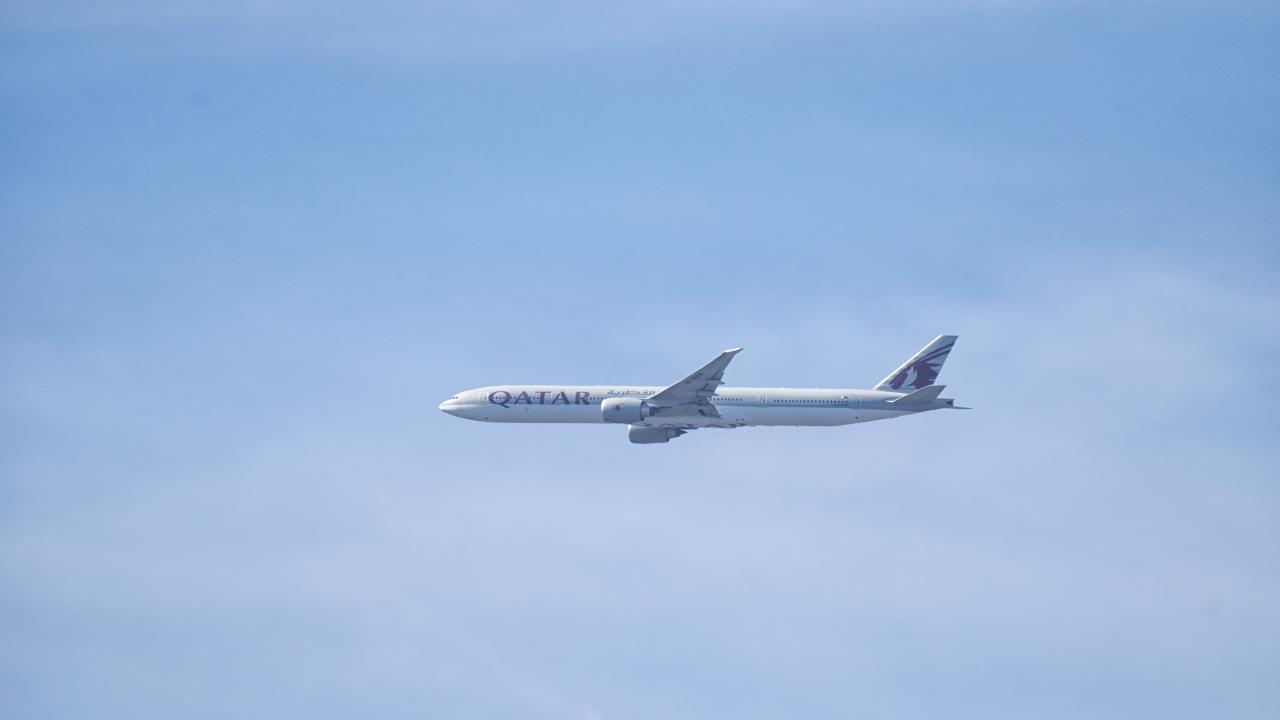Airplane: (427, 323, 993, 454)
